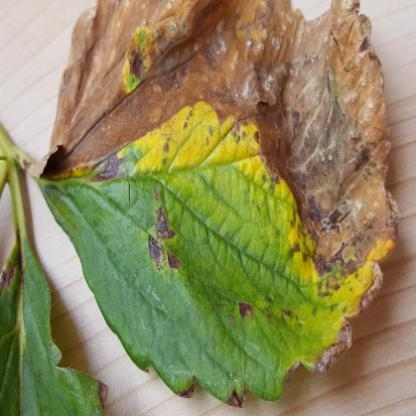Strawberry_Angular_LeafSpot: (23, 0, 400, 409)
